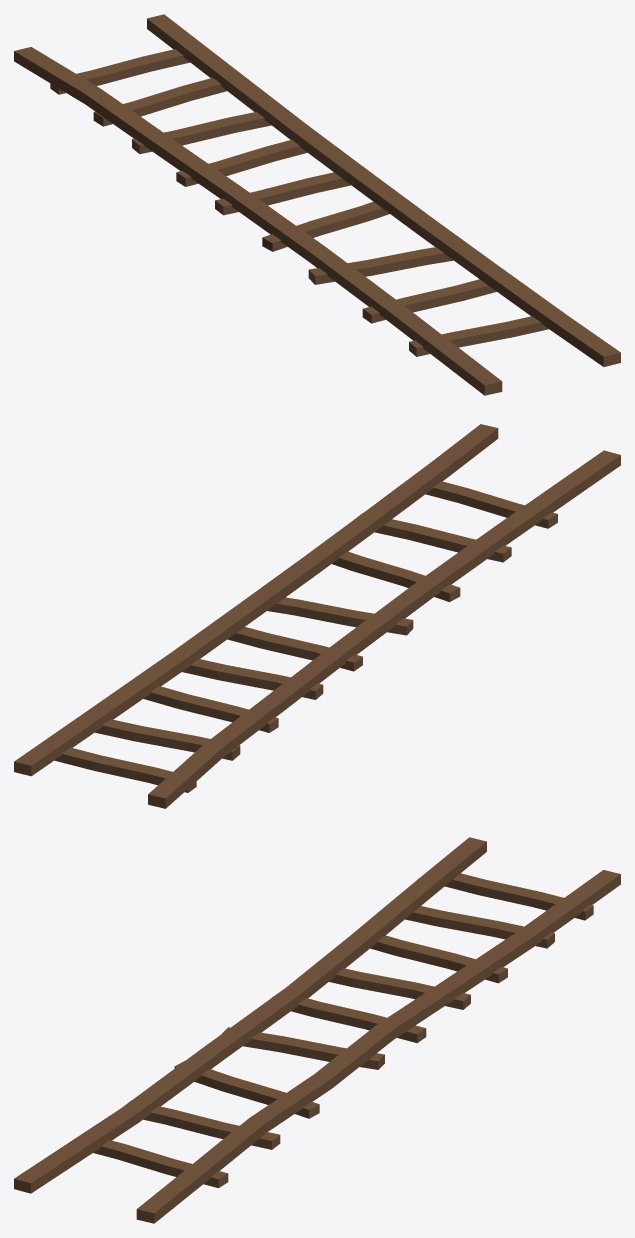
Rendered from Ladder_01_towerLow.fbx.
3 views of the same model, one above another, from view 1: azimuth 30°, elevation 25°; view 2: azimuth 150°, elevation 25°; view 3: azimuth 330°, elevation 25° (orthographic).
Parts seen in each view (by area): view 1: Ladder 1 tour small; view 2: Ladder 1 tour small; view 3: Ladder 1 tour small.
Boxes of the visible parts, bbox=[...] form: Ladder 1 tour small: bbox=[14, 14, 620, 395]; Ladder 1 tour small: bbox=[14, 424, 620, 808]; Ladder 1 tour small: bbox=[14, 837, 620, 1223].
Bounding box in the file's own units: 63.19 × 7.83 × 330.
